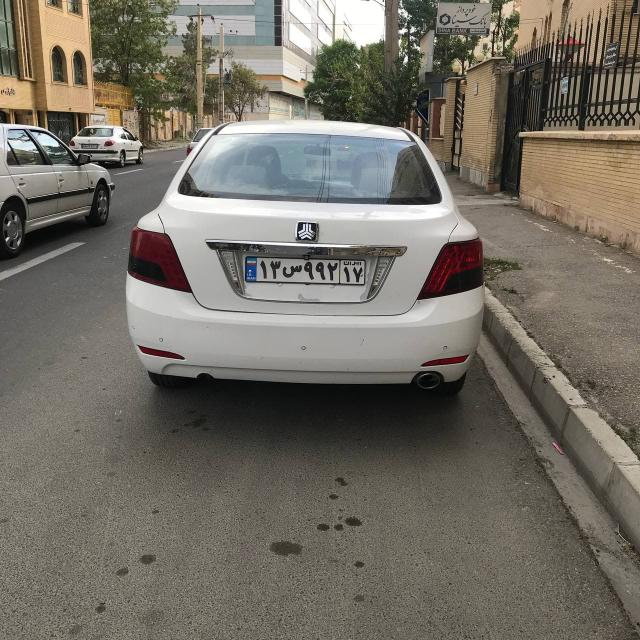Plates: (245, 256, 366, 285)
